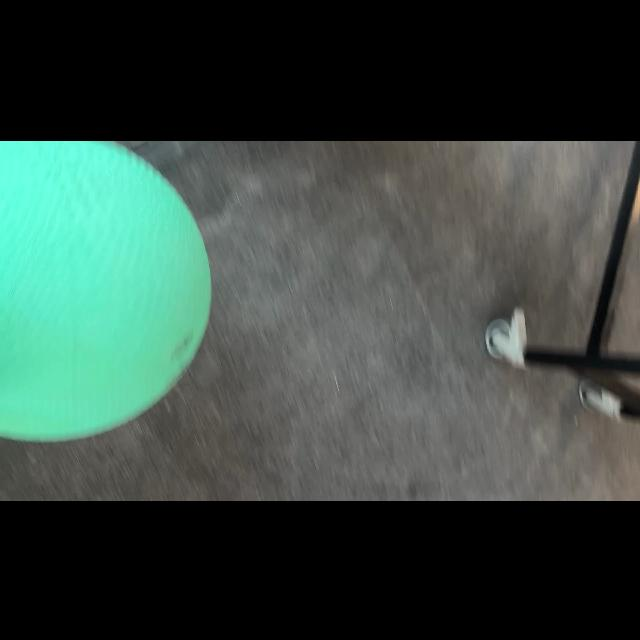ALGAE: (1, 142, 213, 442)
